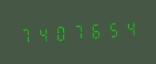five: (102, 18, 118, 41)
four: (34, 23, 50, 45), (119, 17, 135, 39)
seven: (17, 24, 33, 47), (68, 20, 84, 43)
six: (85, 19, 101, 42)
zero: (51, 21, 67, 44)
